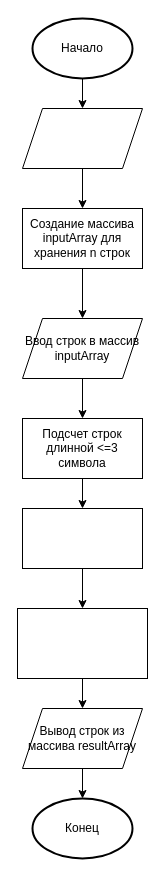
Image size: 165x876. Some labels were removed from this diagram. The box of each missing label's shape, as (x1, y1, x2, y2) in pixels:
Ввод количества строк (n): (22, 108, 142, 168)
Копирование строк длинной <=3 символа из inputArray в resultArray: (16, 608, 148, 678)
Создание массива resultArray длиной count: (22, 508, 142, 568)
